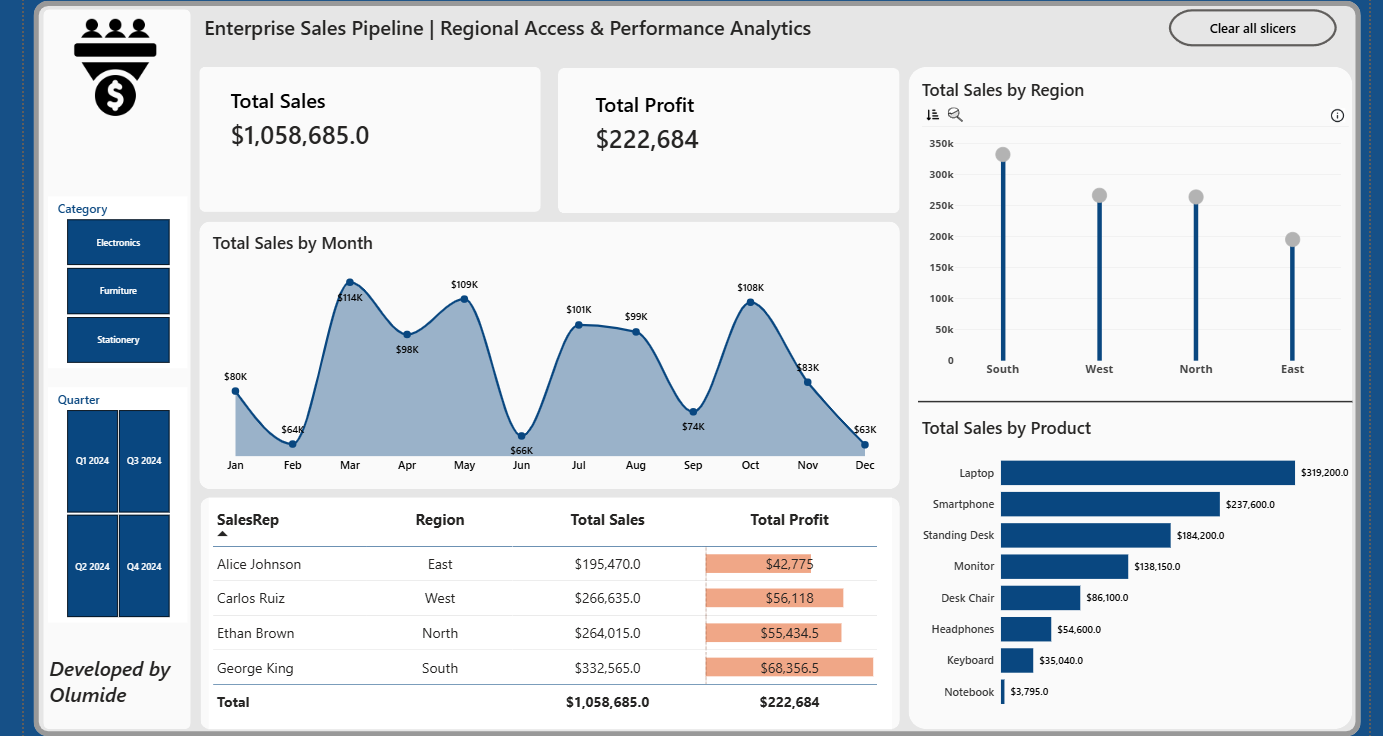

What the dashboard file says about the page in this screenshot:
{"tool":"powerbi","page":{"name":"Performance Analytics","canvas":[1800,1000],"ordinal":0},"visuals":[{"type":"shape","box":[12.8,6.4,1776.1,984.4],"z":0},{"type":"shape","box":[234.5,94.7,457.2,194.3],"z":1000},{"type":"shape","box":[715.2,96.4,457.2,194.3],"z":2000},{"type":"shape","box":[1183.5,94.7,594.2,886.5],"z":3000},{"type":"shape","box":[234.5,301.9,937.8,358.1],"z":4000},{"type":"shape","box":[236.1,671.3,936.2,309.9],"z":5000},{"type":"shape","box":[25.7,17.7,197.5,963.5],"z":6000},{"type":"textbox","box":[236.1,17.7,936.2,64.2],"z":7000},{"type":"cardVisual","fields":{"Data":["SalesData.Total Sales"]},"box":[247.3,109.2,351.7,109.2],"z":8000},{"type":"cardVisual","fields":{"Data":["SalesData.Total Profit"]},"box":[735.5,109.2,359.7,120.4],"z":9000},{"type":"areaChart","fields":{"Category":["DateTable.Month Name"],"Y":["SalesData.Total Sales"]},"box":[247.3,314.8,913.8,334],"z":10000},{"type":"lollipopcolumn216FD8C19B9DC0D953B3FAE4C3997742","fields":{"col_0":["SalesData.Region"],"col_1":["SalesData.Total Sales"]},"box":[1196.4,109.2,581.3,414.3],"z":11000},{"type":"shape","box":[1196.4,523.5,581.3,38.5],"z":12000},{"type":"barChart","fields":{"Category":["SalesData.Product"],"Y":["SalesData.Total Sales"]},"box":[1196.4,562.1,581.3,407.9],"z":13000},{"type":"tableEx","fields":{"Values":["SalesData.SalesRep","SalesData.Region","SalesData.Total Sales","SalesData.Total Profit"]},"box":[247.3,671.3,913.8,309.9],"z":14000},{"type":"actionButton","box":[1532,17.7,224.8,49.8],"z":15000},{"type":"slicer","fields":{"Values":["SalesData.Category"]},"box":[32.1,268.2,186.3,229.6],"z":16000},{"type":"slicer","fields":{"Values":["SalesData.Quarter"]},"box":[32.1,523.5,186.3,314.8],"z":17000},{"type":"textbox","box":[28.9,875.2,189.5,94.7],"z":18000},{"type":"image","box":[28.9,30.5,186.3,130.1],"z":19000}]}

Visuals, with their boxes on the page's 1800x1000 design canvas (x1, y1, x2, y2). These are canvas units, not pixel positions in the 1383x736 screenshot, which may show the page scaled, cropped or inside an application window:
shape: [13,6,1789,991]
shape: [234,95,692,289]
shape: [715,96,1172,291]
shape: [1184,95,1778,981]
shape: [234,302,1172,660]
shape: [236,671,1172,981]
shape: [26,18,223,981]
textbox: [236,18,1172,82]
cardVisual - SalesData.Total Sales: [247,109,599,218]
cardVisual - SalesData.Total Profit: [736,109,1095,230]
areaChart - DateTable.Month Name x SalesData.Total Sales: [247,315,1161,649]
lollipopcolumn216FD8C19B9DC0D953B3FAE4C3997742 - SalesData.Region x SalesData.Total Sales: [1196,109,1778,524]
shape: [1196,524,1778,562]
barChart - SalesData.Product x SalesData.Total Sales: [1196,562,1778,970]
tableEx - SalesData.SalesRep x SalesData.Region: [247,671,1161,981]
actionButton: [1532,18,1757,68]
slicer - SalesData.Category: [32,268,218,498]
slicer - SalesData.Quarter: [32,524,218,838]
textbox: [29,875,218,970]
image: [29,30,215,161]
